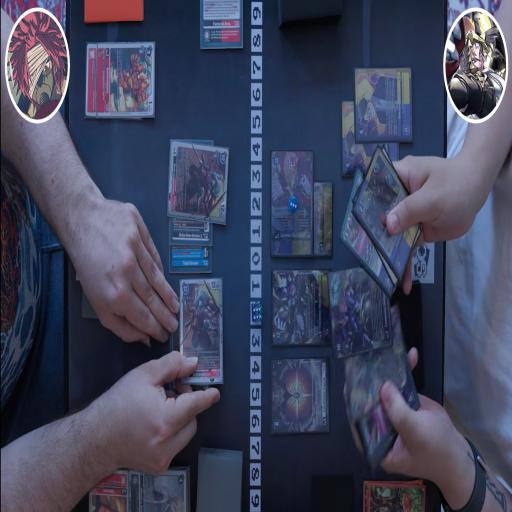card: (357, 153, 420, 286), (342, 305, 412, 416), (341, 171, 397, 295), (356, 363, 420, 471), (332, 270, 391, 360), (168, 141, 226, 226), (272, 267, 332, 345), (270, 149, 313, 257), (97, 42, 155, 122), (270, 360, 329, 438), (179, 277, 221, 385), (342, 101, 399, 178), (356, 69, 414, 144), (132, 465, 190, 512), (199, 0, 243, 55), (89, 465, 129, 512), (313, 184, 334, 257), (169, 215, 213, 246), (167, 244, 211, 275), (85, 40, 100, 116)
